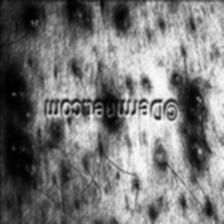Unclassified: (0, 125, 224, 214), (1, 0, 205, 94)
